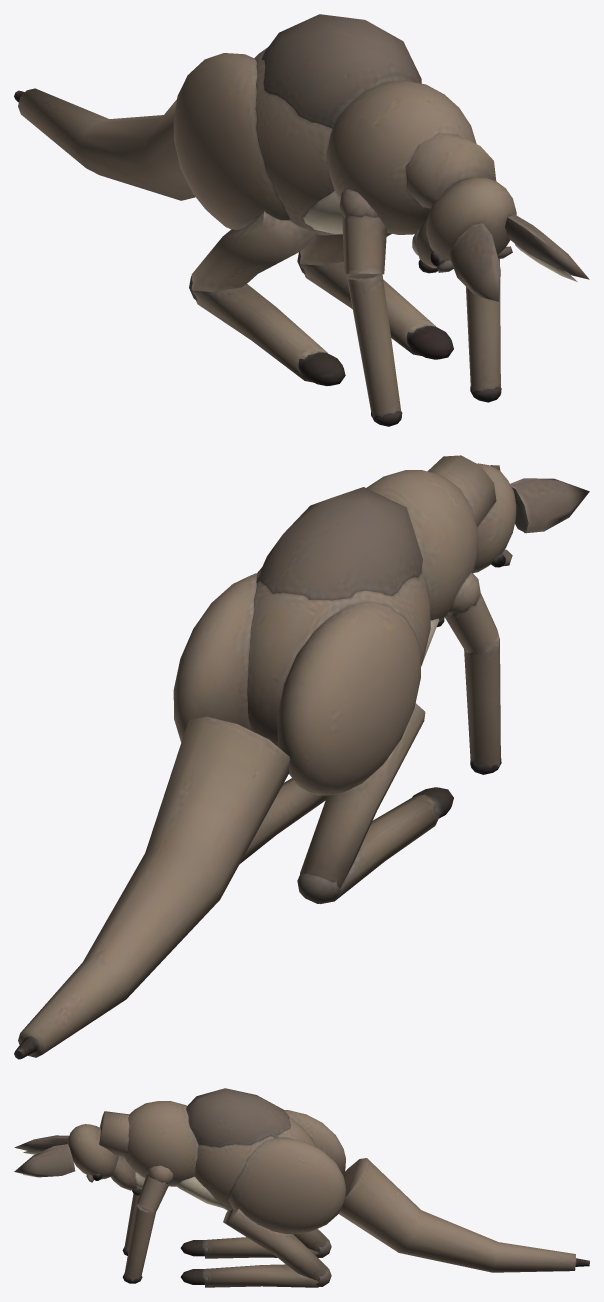
The model's file is kangaroo_graze.glb.
The picture shows the model from 3 angles, top to bottom: view 1: azimuth 30°, elevation 25°; view 2: azimuth 150°, elevation 25°; view 3: azimuth 270°, elevation 25°; orthographic projection. The views are drawn at different scales.
Visible parts, largest first — view 1: kangaroo_graze; view 2: kangaroo_graze; view 3: kangaroo_graze.
Part boxes in pixels (x1=…): kangaroo_graze: x1=14, y1=14, x2=589, y2=426; kangaroo_graze: x1=14, y1=455, x2=589, y2=1059; kangaroo_graze: x1=14, y1=1088, x2=589, y2=1287.
Size of the model in its own units: 0.43 by 0.6962 by 2.02.
1 material, 1 textured.
